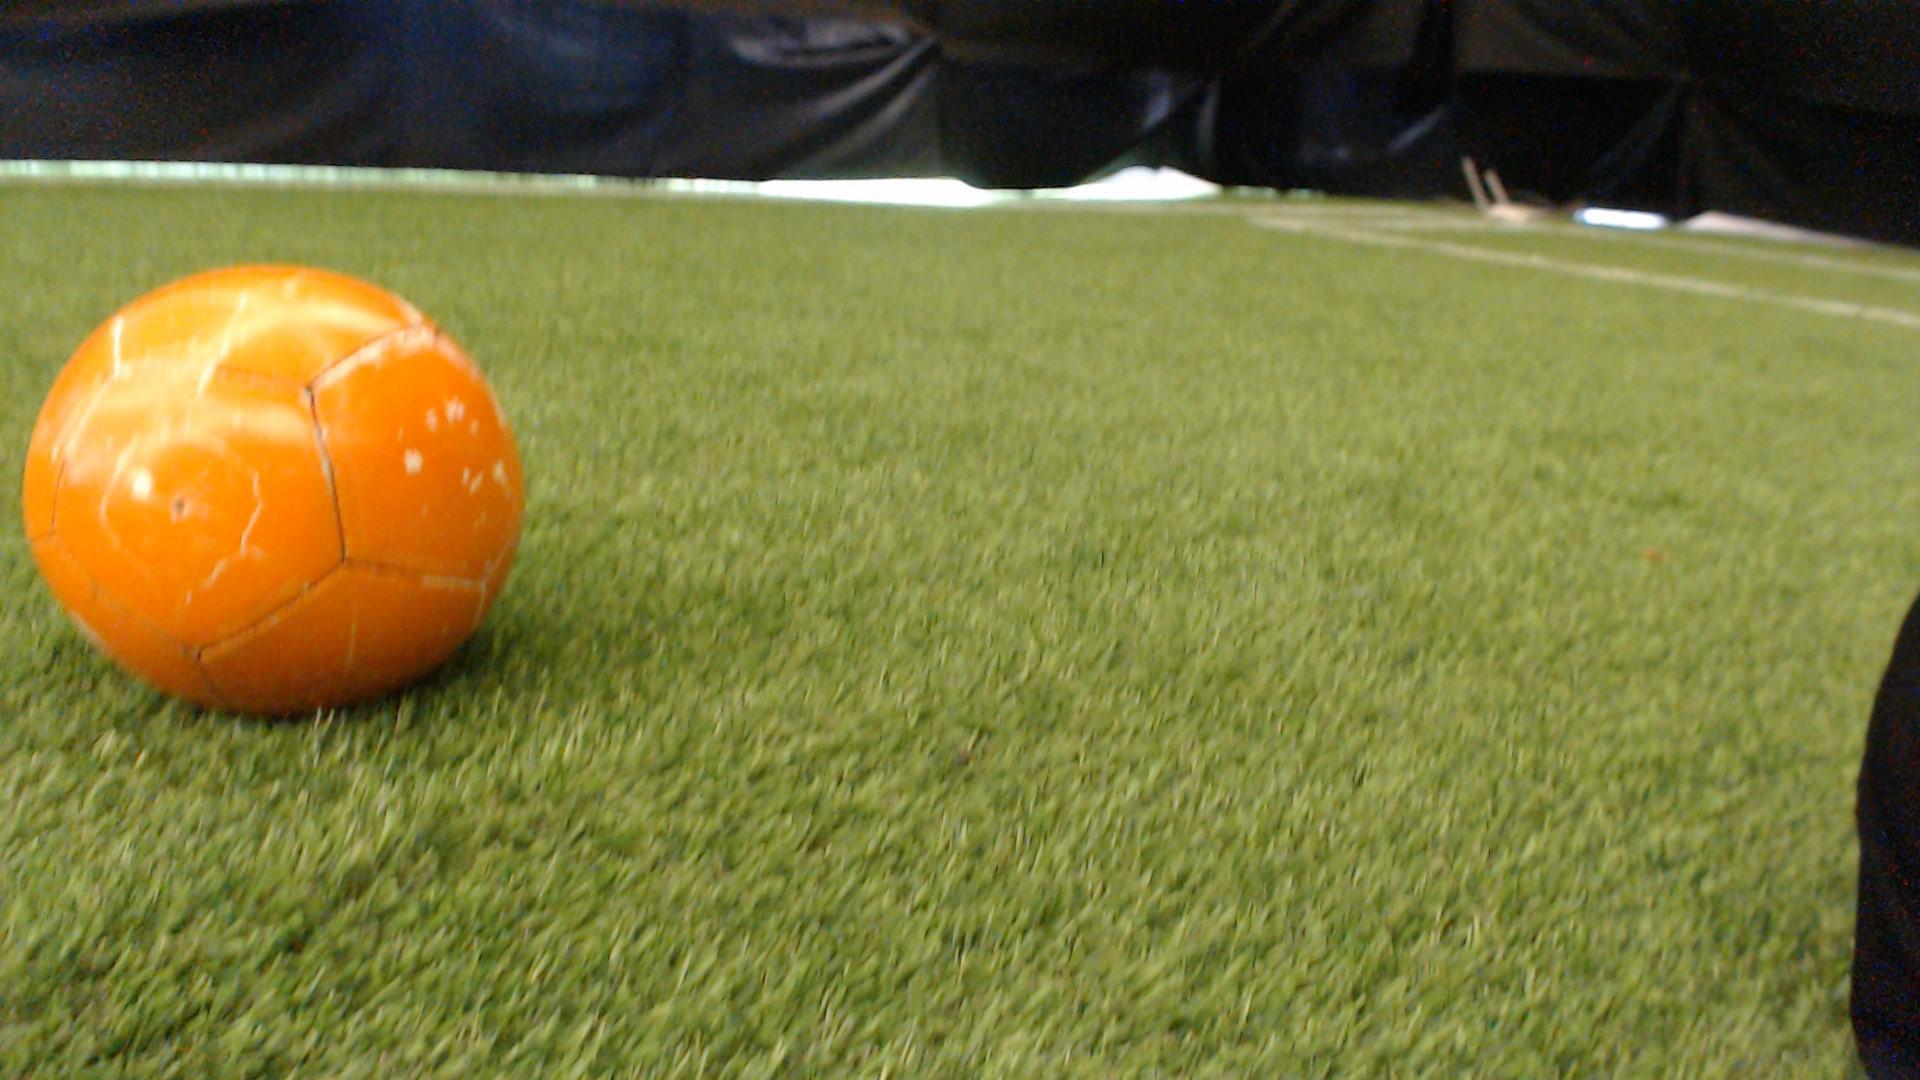bola: (8, 236, 572, 753)
